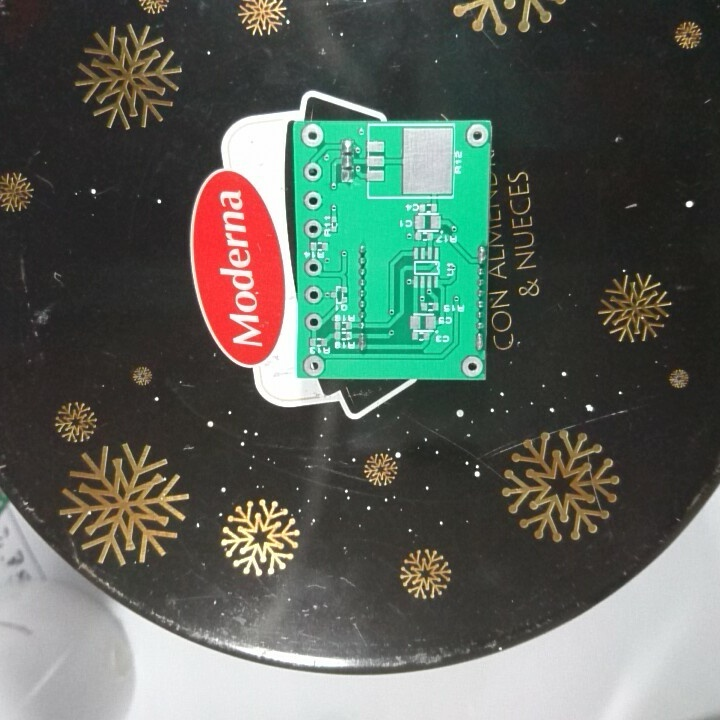F: (300, 121, 327, 149), (463, 122, 488, 148), (300, 354, 328, 377), (459, 355, 485, 379), (302, 284, 326, 305), (302, 256, 325, 277), (302, 160, 322, 183), (302, 189, 323, 210), (302, 218, 324, 238), (304, 312, 323, 332)
P: (354, 330, 370, 352), (476, 240, 487, 267), (473, 331, 485, 352)
